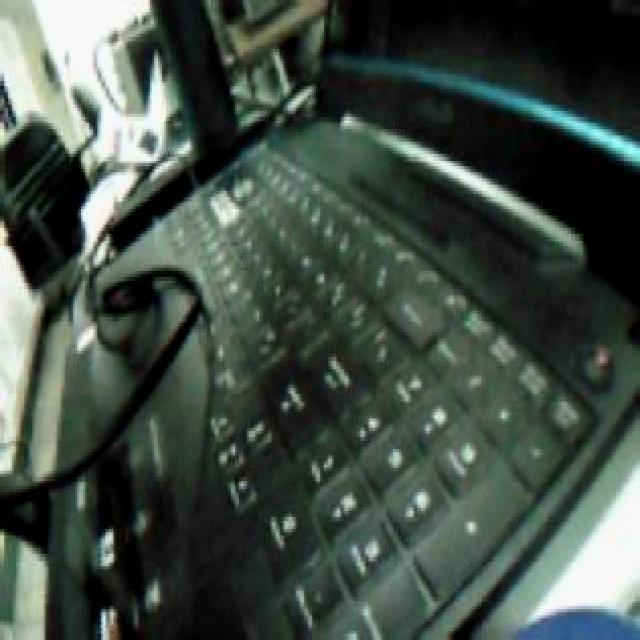BallPurple: (504, 606, 638, 640)
